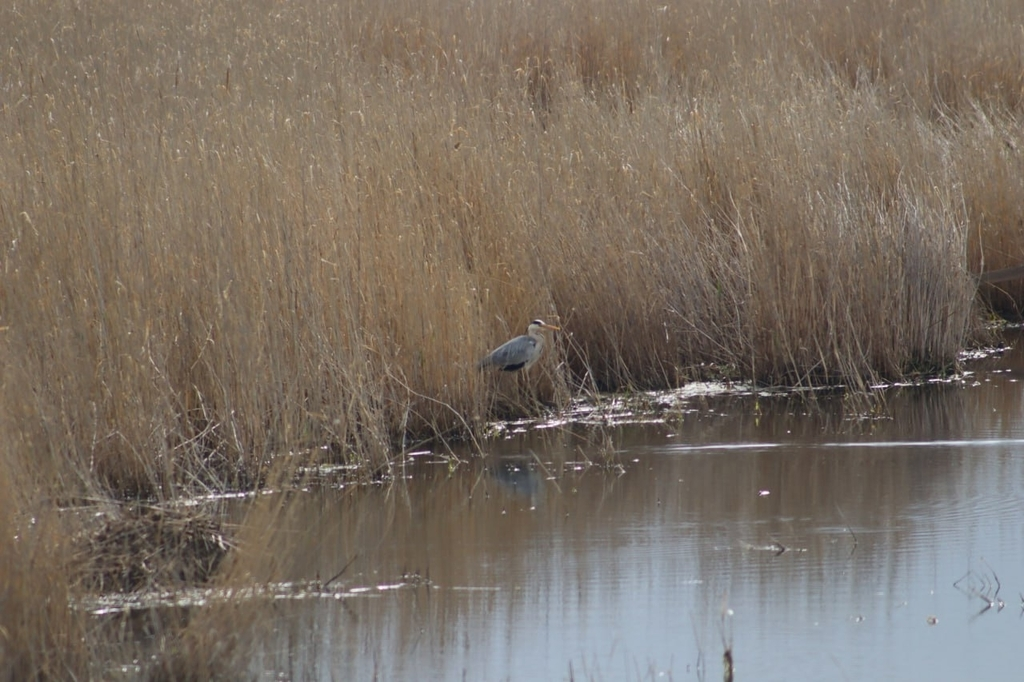heron: (472, 316, 562, 422)
